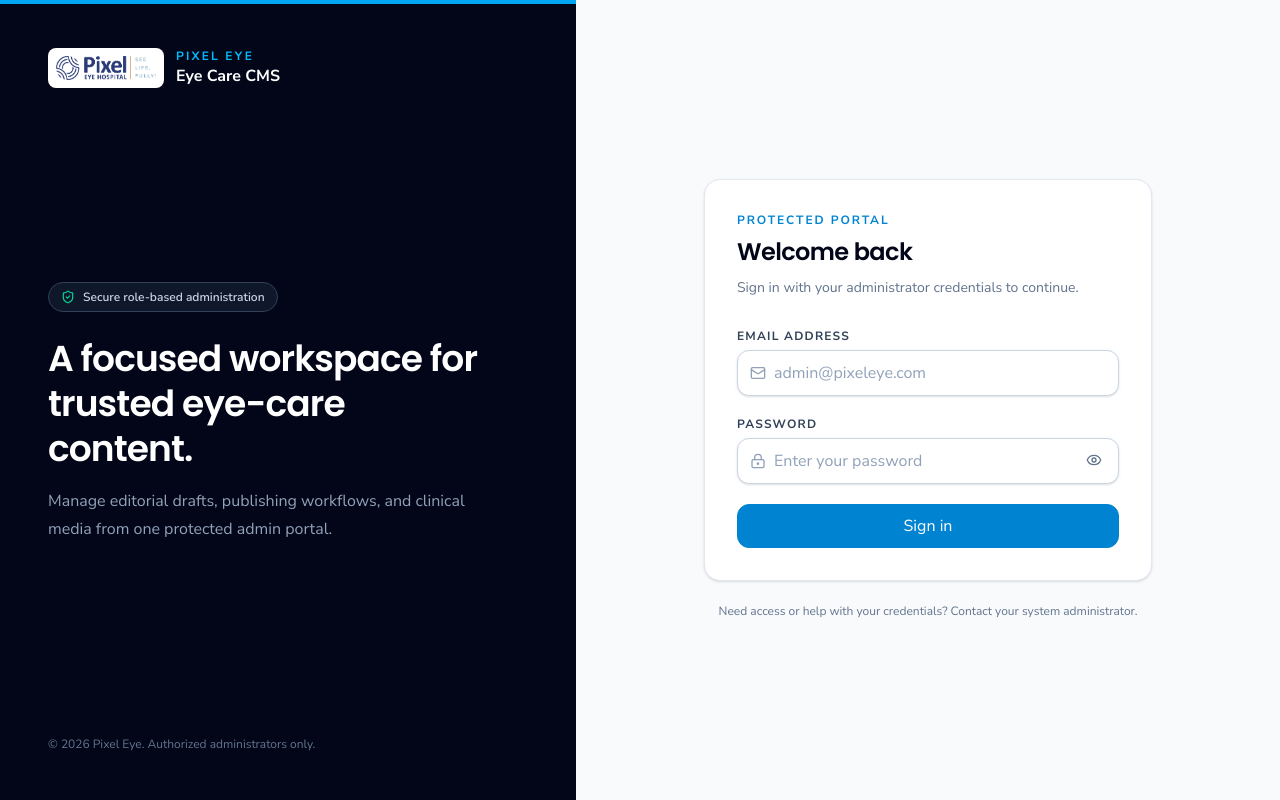
Test case: LoginPage › shows a friendly invalid credentials error
The width and height of the screenshot is (1280, 800).
Type "admin@example.com" into the field labelled "Email address".
click(942, 373); type("admin@example.com")  # box 766,351 -> 1118,395
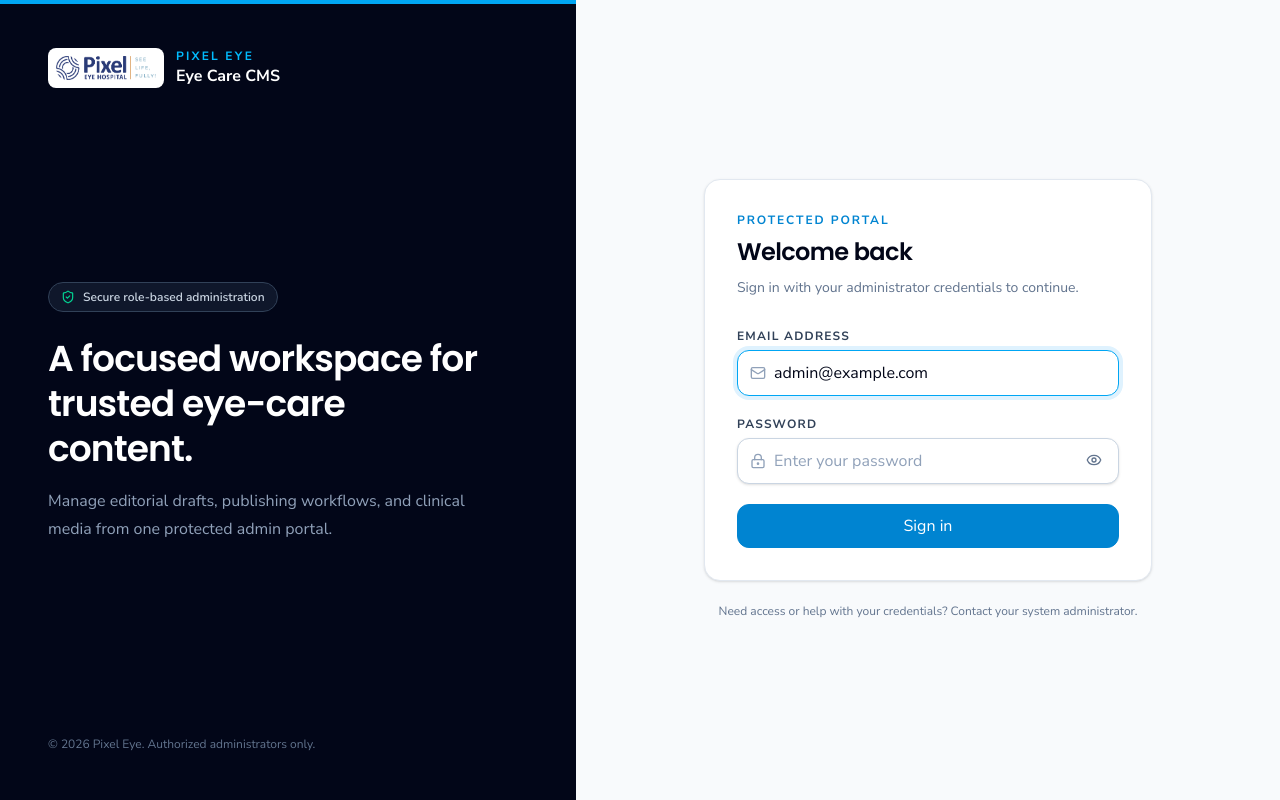
Type "WrongPass123" into the password field labelled "Password".
click(924, 461); type("WrongPass123")  # box 766,439 -> 1082,483
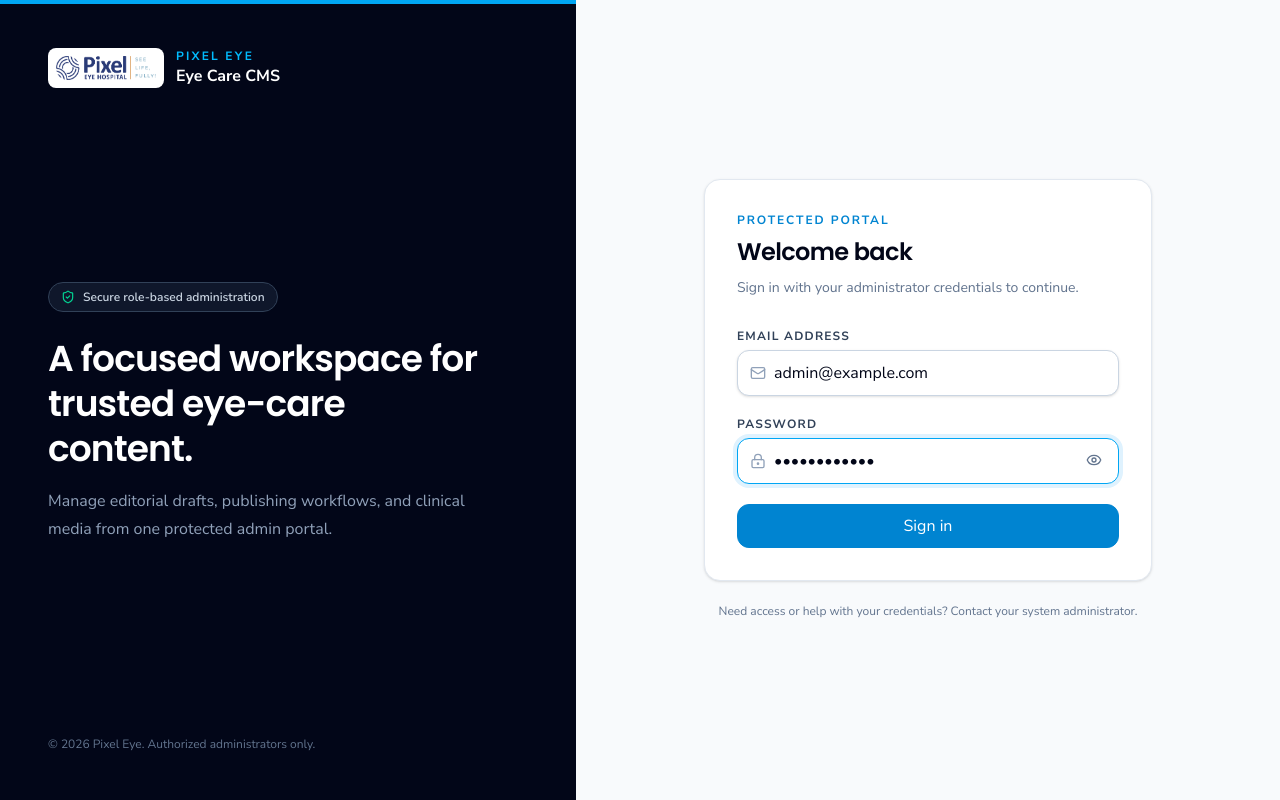
Click the button "Sign in".
click(928, 526)  # box 737,504 -> 1119,548
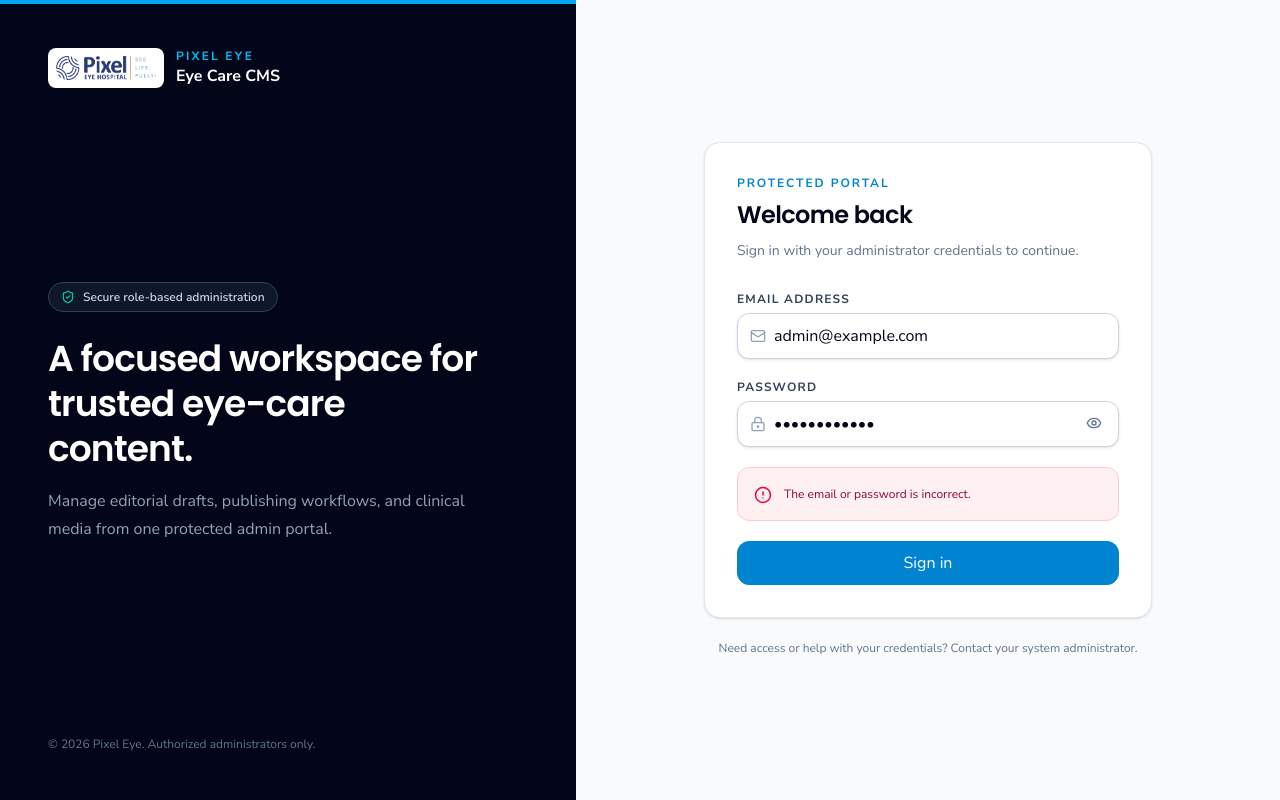
Now the message reads "The email or password is incorrect.", box 784,486 -> 971,502
